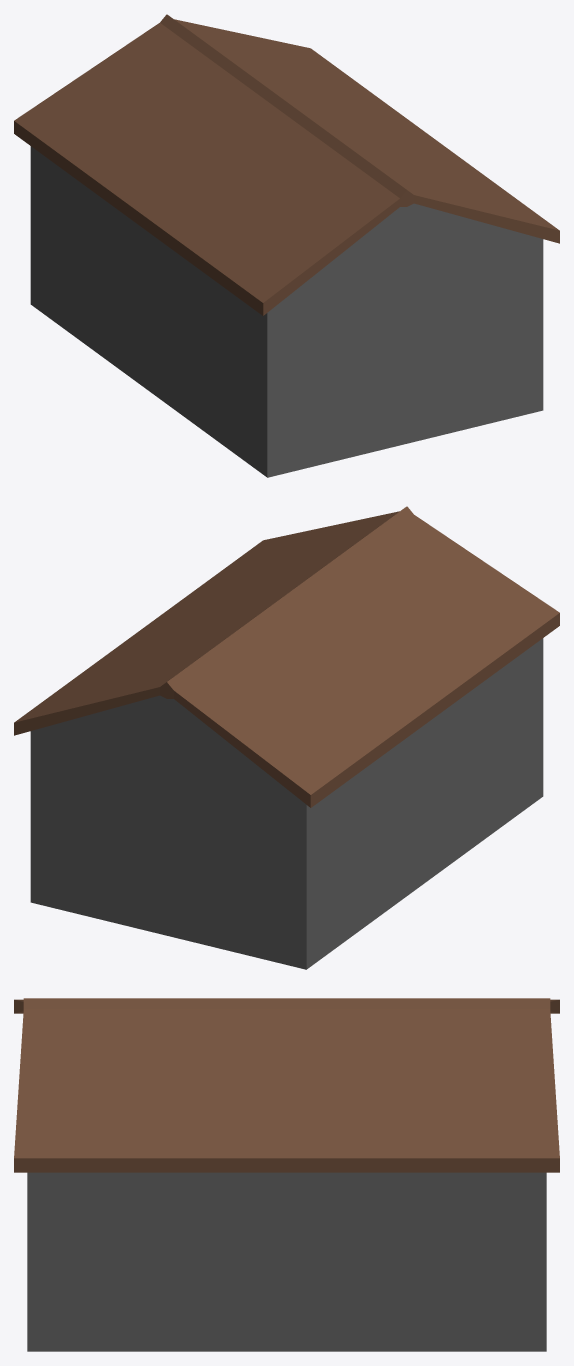
Rendered from Room05.fbx.
The picture shows the model from 3 angles, top to bottom: view 1: azimuth 30°, elevation 25°; view 2: azimuth 150°, elevation 25°; view 3: azimuth 270°, elevation 25°; orthographic projection. The views are drawn at different scales.
Visible parts, largest first — view 1: Room05; view 2: Room05; view 3: Room05.
Part boxes in pixels (x1,y1,x2,y2): Room05: (14, 14, 559, 477); Room05: (14, 506, 559, 969); Room05: (14, 998, 559, 1351).
Size of the model in its own units: 430 by 354 by 626.
